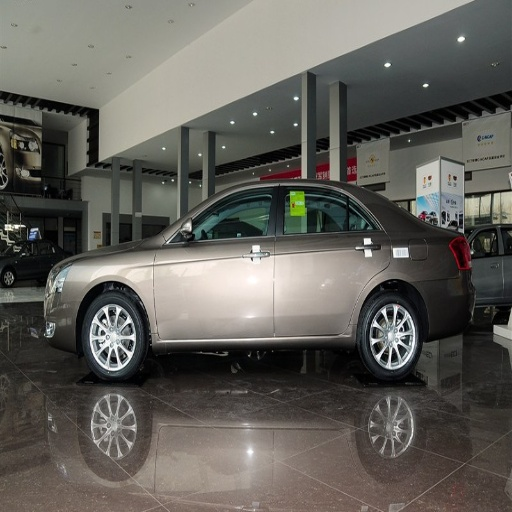back_left_door: (275, 186, 383, 334)
front_left_door: (157, 187, 279, 338)
